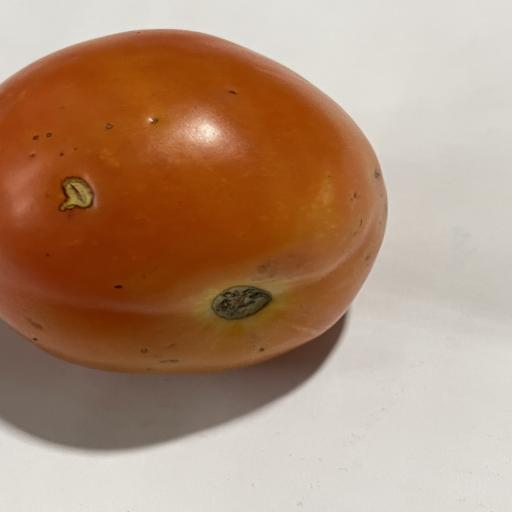ripe: (0, 30, 387, 374)
